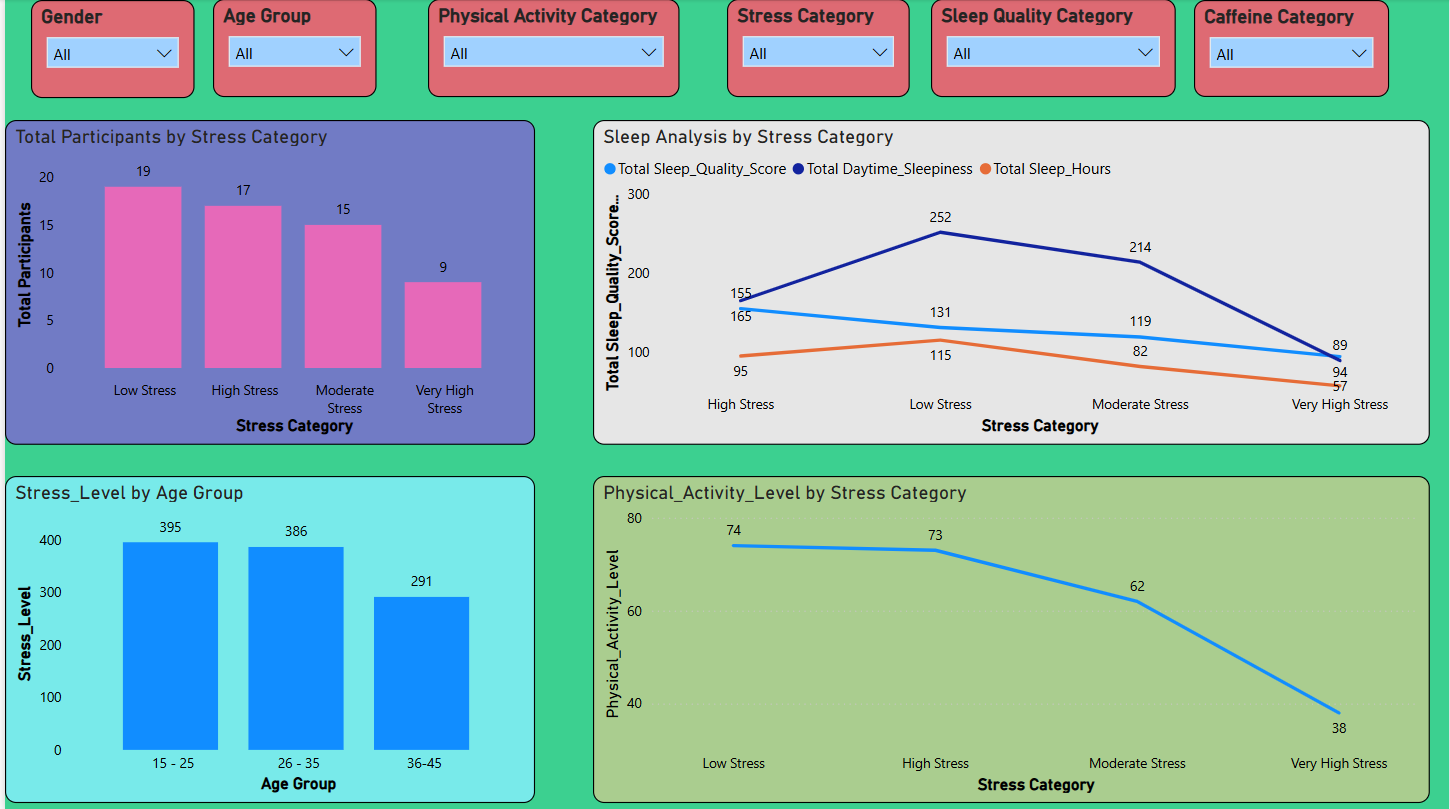

The dashboard page shown, as its layout file describes it:
{"tool":"powerbi","page":{"name":"Stress Level Analysis","canvas":[1280,720],"ordinal":6},"visuals":[{"type":"columnChart","fields":{"Y":["CountNonNull(sleep_deprivation_dataset_detai.Participant_ID)"],"Category":["sleep_deprivation_dataset_detai.Stress Category"]},"box":[0,107,469.8,287.9],"z":0},{"type":"columnChart","fields":{"Category":["sleep_deprivation_dataset_detai.Age Group"],"Y":["Sum(sleep_deprivation_dataset_detai.Stress_Level)"]},"box":[0,423.1,469.8,289.8],"z":1},{"type":"lineChart","title":"Sleep Analysis by Stress Category","fields":{"Category":["sleep_deprivation_dataset_detai.Stress Category"],"Y":["Sum(sleep_deprivation_dataset_detai.Sleep_Quality_Score)","Sum(sleep_deprivation_dataset_detai.Daytime_Sleepiness)","Sum(sleep_deprivation_dataset_detai.Sleep_Hours)"]},"box":[521.3,107,742.1,287.9],"z":2},{"type":"slicer","title":"Gender","fields":{"Values":["sleep_deprivation_dataset_detai.Gender"]},"box":[23.3,1,144.9,86.6],"z":4},{"type":"slicer","title":"Age Group","fields":{"Values":["sleep_deprivation_dataset_detai.Age Group"]},"box":[184.8,0,144.9,86.6],"z":5},{"type":"slicer","title":"Physical Activity Category","fields":{"Values":["sleep_deprivation_dataset_detai.Physical Activity Category"]},"box":[375.4,0,222.7,86.6],"z":6},{"type":"slicer","title":"Stress  Category","fields":{"Values":["sleep_deprivation_dataset_detai.Stress Category"]},"box":[640,0,162.4,86.6],"z":7},{"type":"slicer","title":"Caffeine Category","fields":{"Values":["sleep_deprivation_dataset_detai.coffee intake category"]},"box":[1054.3,1,173.1,85.6],"z":8},{"type":"slicer","title":"Sleep Quality Category","fields":{"Values":["sleep_deprivation_dataset_detai.Sleep Quality category"]},"box":[820.9,0,216.9,86.6],"z":9},{"type":"lineChart","fields":{"Category":["sleep_deprivation_dataset_detai.Stress Category"],"Y":["Sum(sleep_deprivation_dataset_detai.Physical_Activity_Level)"]},"box":[521,423,742,290],"z":10}]}

Visuals, with their boxes in screenshot pixels (x1, y1, x2, y2), scaled from the page's 1280x720 canvas onto the 1450x809 screenshot:
columnChart - CountNonNull(sleep_deprivation_dataset_detai.Participant_ID) x sleep_deprivation_dataset_detai.Stress Category: 0/120/532/444
columnChart - sleep_deprivation_dataset_detai.Age Group x Sum(sleep_deprivation_dataset_detai.Stress_Level): 0/475/532/801
"Sleep Analysis by Stress Category" lineChart: 591/120/1431/444
"Gender" slicer: 26/1/191/98
"Age Group" slicer: 209/0/373/97
"Physical Activity Category" slicer: 425/0/678/97
"Stress  Category" slicer: 725/0/909/97
"Caffeine Category" slicer: 1194/1/1390/97
"Sleep Quality Category" slicer: 930/0/1176/97
lineChart - sleep_deprivation_dataset_detai.Stress Category x Sum(sleep_deprivation_dataset_detai.Physical_Activity_Level): 590/475/1431/801
